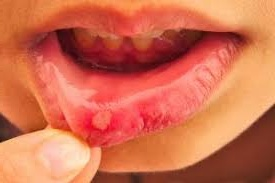Ulcer: (89, 109, 117, 133)
